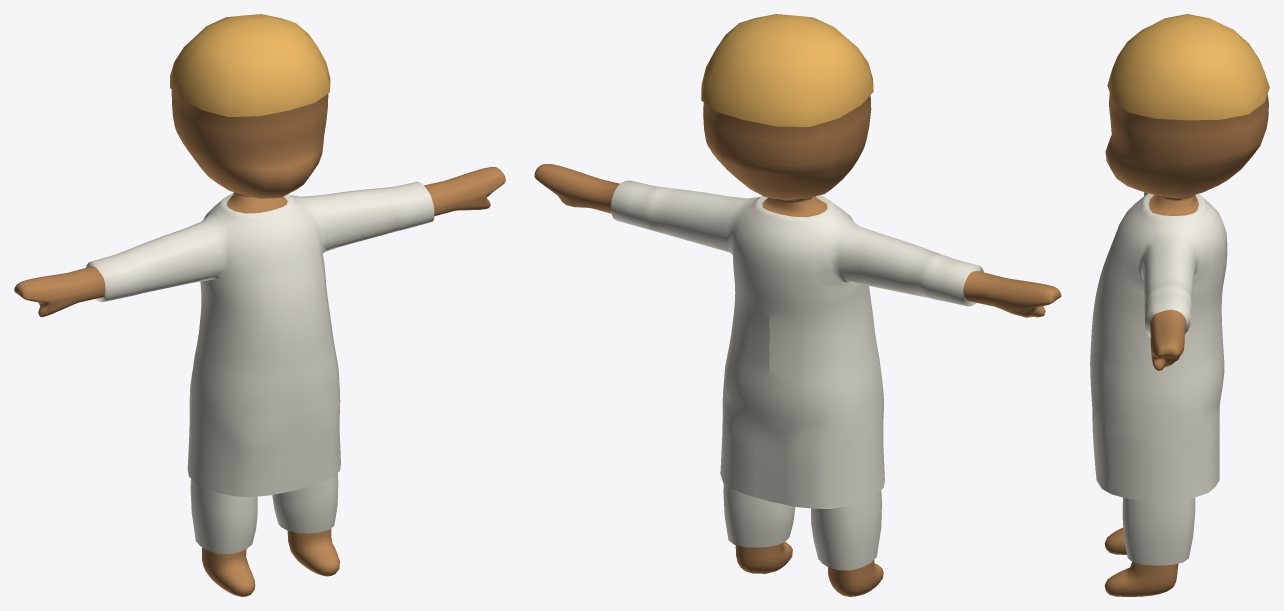
Rendered from SK_Man_Clothed.fbx.
3 views of the same model, side by side, from view 1: azimuth 30°, elevation 25°; view 2: azimuth 150°, elevation 25°; view 3: azimuth 270°, elevation 25° (orthographic). The views are drawn at different scales.
Visible parts, largest first — view 1: Box003; view 2: Box003; view 3: Box003.
Part boxes in pixels (x1,y1,x2,y2): Box003: [14, 14, 505, 596]; Box003: [534, 14, 1061, 596]; Box003: [1090, 14, 1269, 596].
Size of the model in its own units: 145 by 154 by 45.7.
